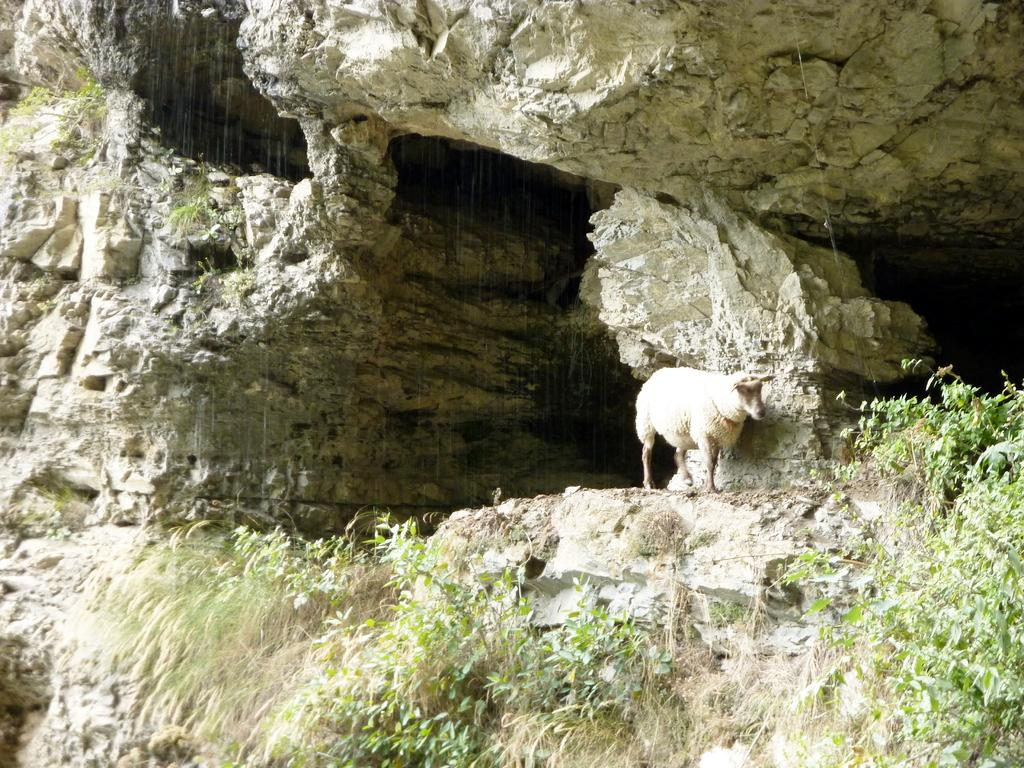Sheep: (631, 355, 773, 499)
